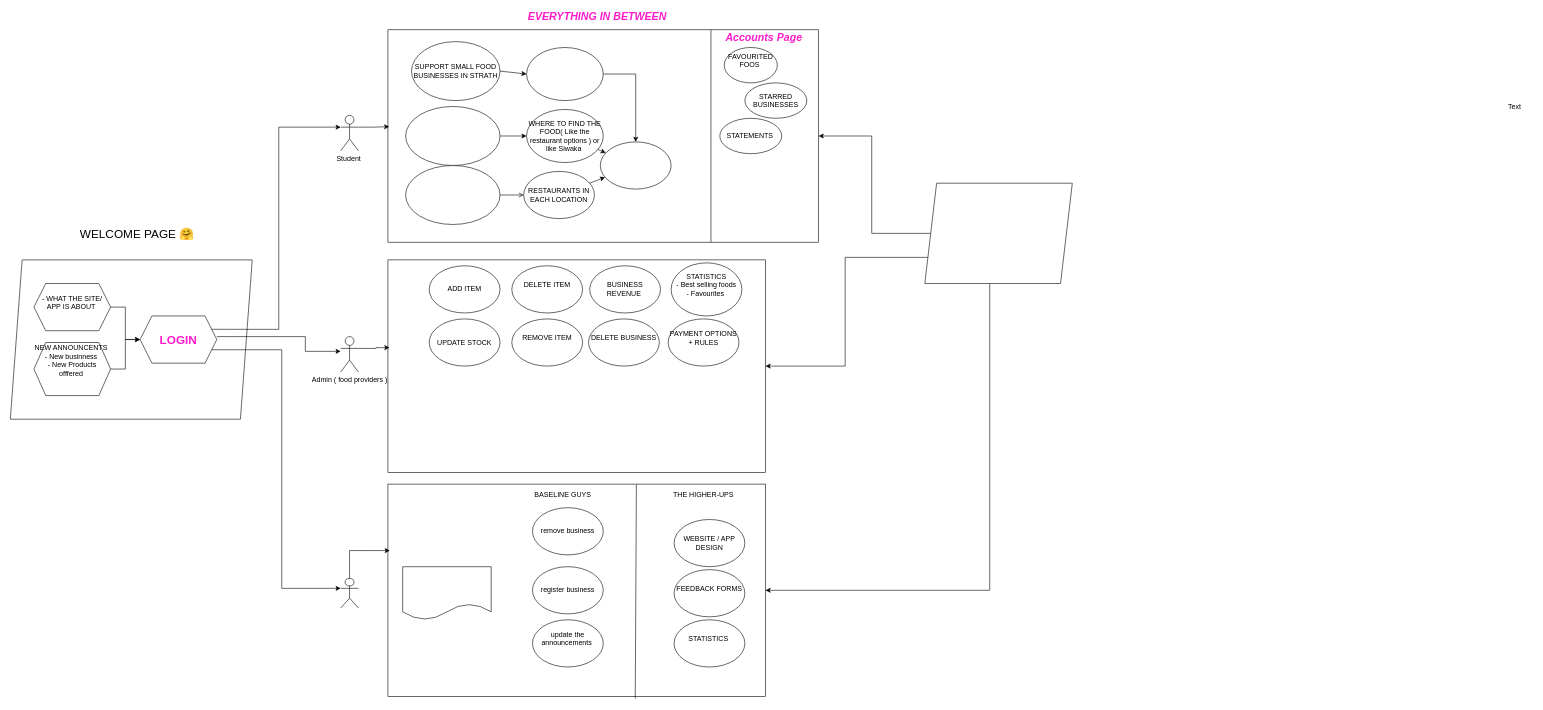
Image size: 1543x710. Some labels were removed from this diagram. Here are the shapes that lost their labels. From the top down, the centre of each, then its label:
[564,74]: OPTIONS PER BUSINESS AND WHAT THEY OFFER
[452,135]: SEARCH BY FOOD - Shawarma - Smocha - Rice and stew
[635,165]: ORDER THE FOOD
[452,194]: SEARCH BY FOOD LOCATIONS - PHASE 1/2 - CHOOSE BUILDING, FLOOR - SIWAKA
[998,233]: FEEDBACK
[349,593]: MAIN Admin ( systems )
[446,593]: MFA
